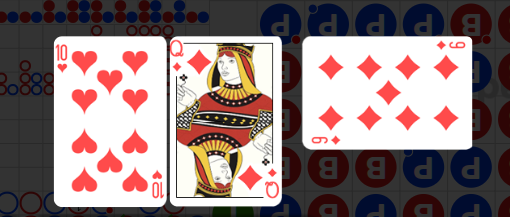10H: (150, 168, 164, 199)
9D: (310, 134, 342, 147), (435, 40, 466, 51)
QD: (182, 36, 226, 83), (249, 157, 293, 203)
